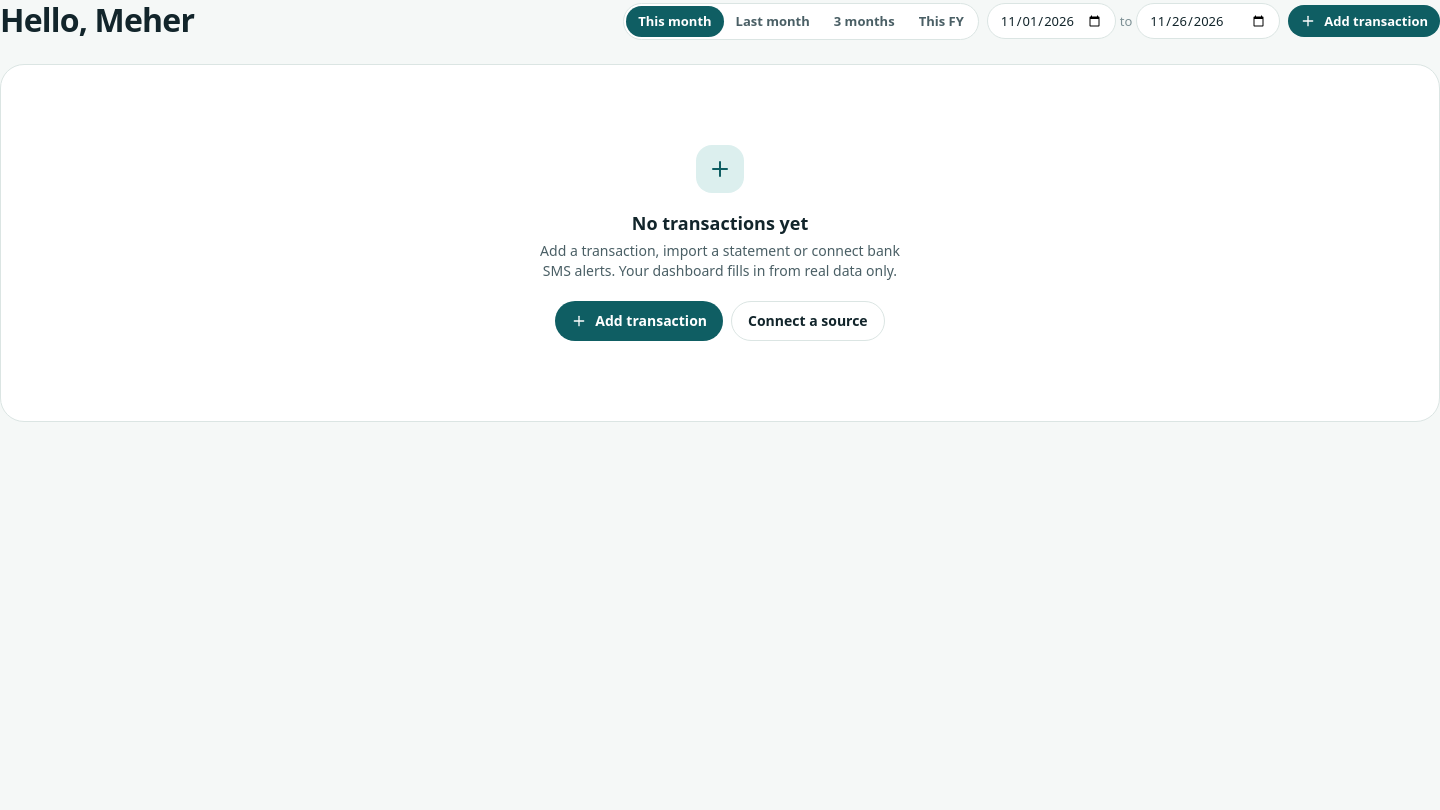
Test: dashboard add transaction › the + on the empty dashboard opens the add-transaction form
Click the button named "Add a transaction": (720, 169) top-left (708, 157), bottom-right (732, 181)
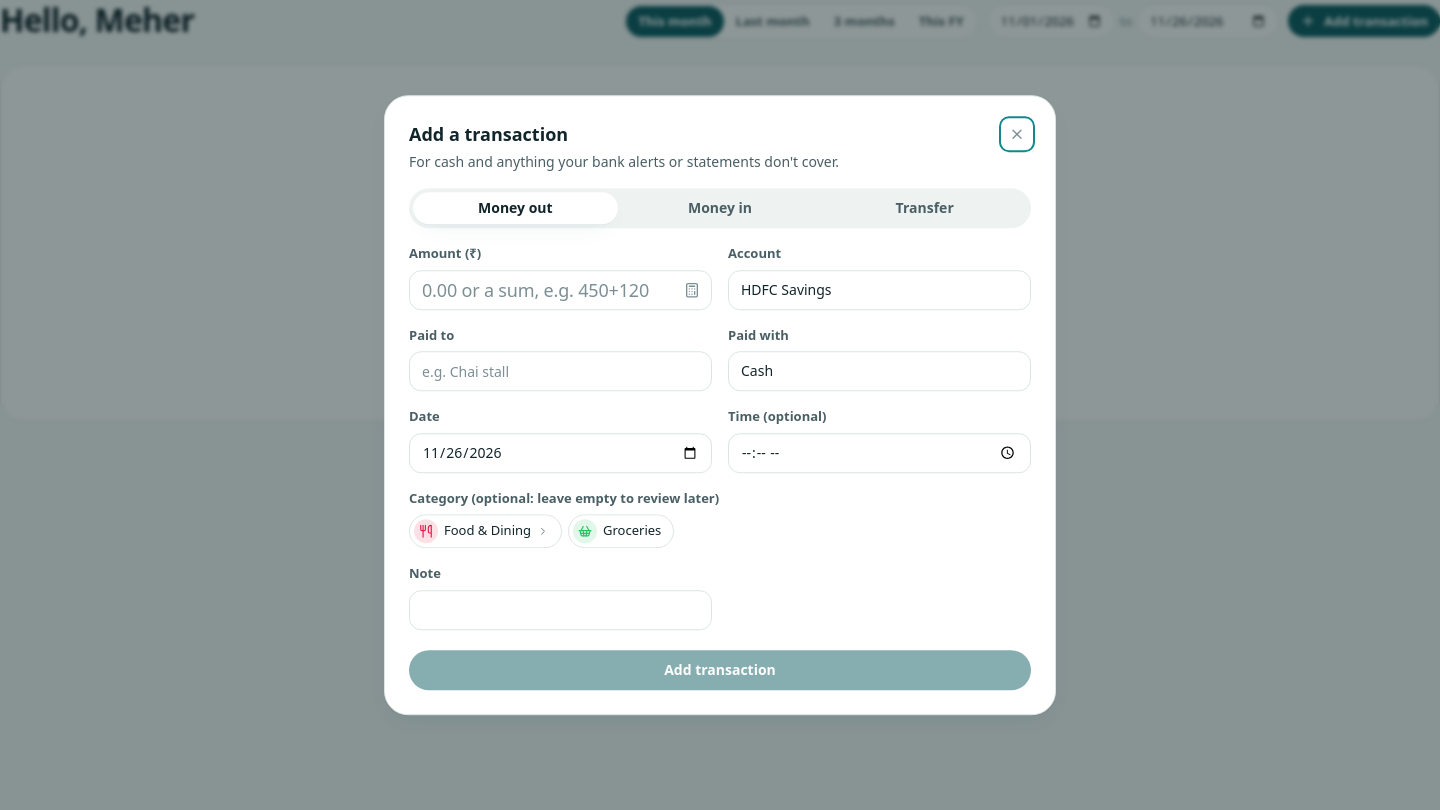
Now the heading "Add a transaction" is shown, box top-left (409, 122), bottom-right (568, 146)
